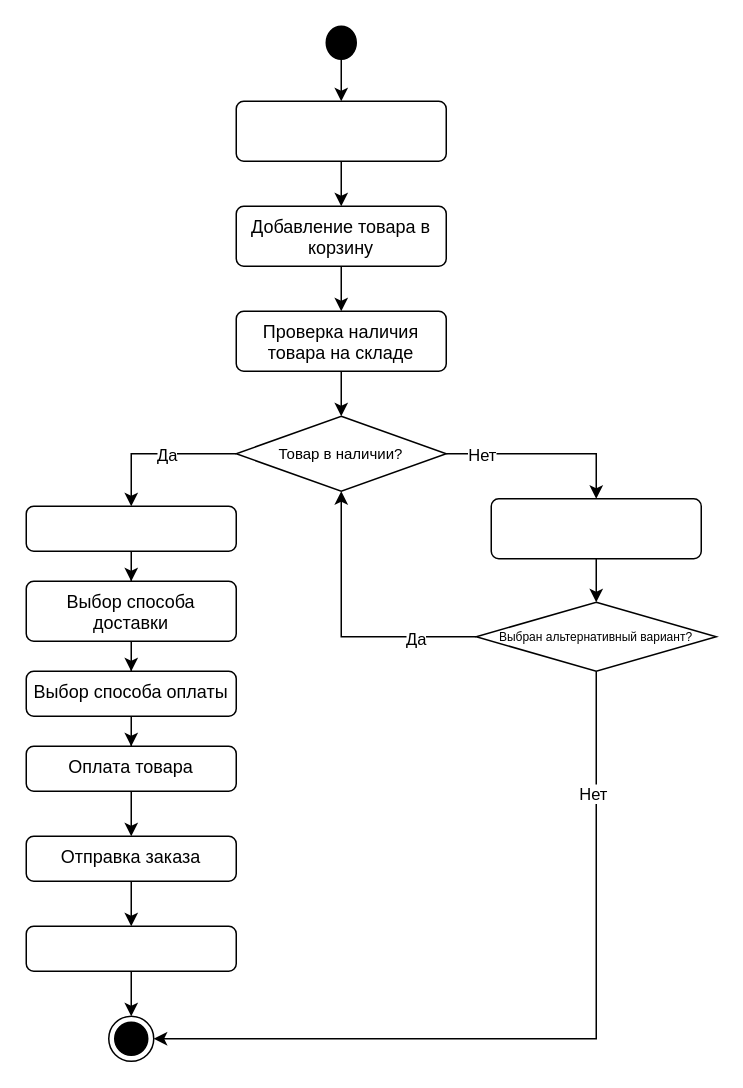
Image size: 743x1088. Some labels were removed from this diagram. Each missing label, with the centre of its shape:
Выбор товара: point (340, 130)
Оформление заказа: point (130, 528)
Получение заказа: point (130, 948)
Предложение похожих товаров: point (595, 528)
